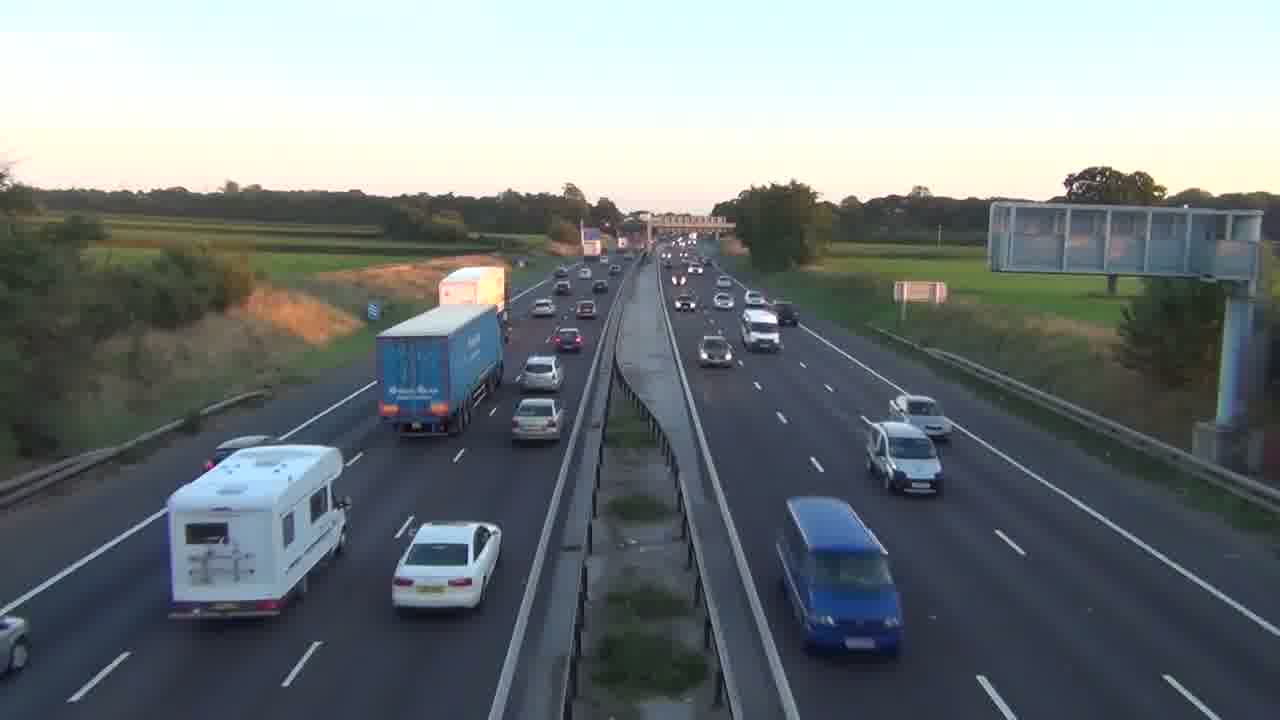bus: (165, 442, 350, 620)
car: (390, 519, 502, 614), (862, 418, 945, 497), (886, 394, 954, 440), (510, 395, 564, 446), (0, 606, 32, 677), (515, 353, 565, 390), (697, 335, 737, 369), (555, 327, 584, 353), (529, 297, 556, 318), (574, 299, 597, 319), (592, 280, 608, 293)
truck: (165, 442, 350, 620), (774, 496, 905, 657), (375, 303, 505, 436)
